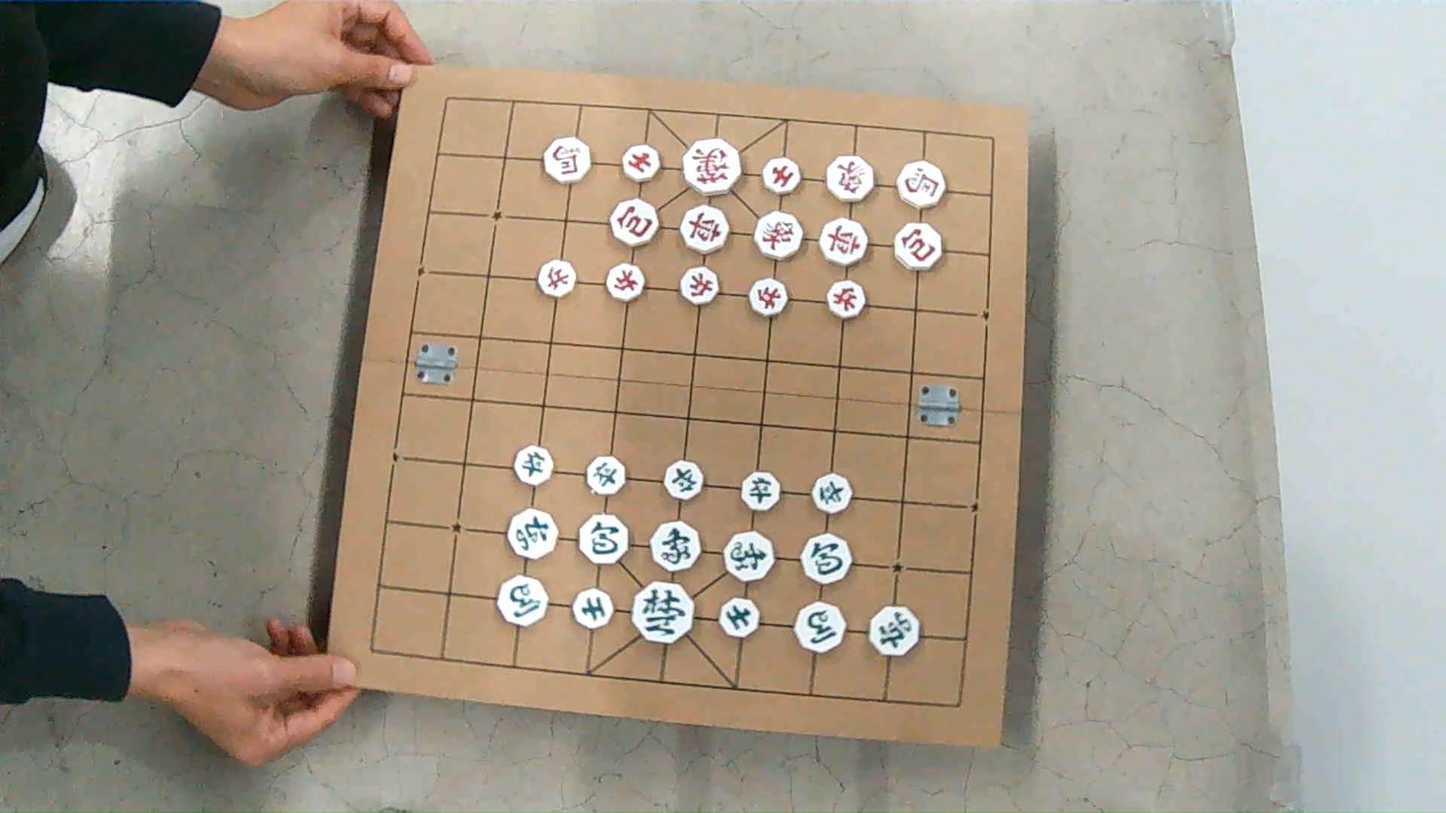cha_green: (868, 606, 919, 656), (507, 509, 556, 559)
cha_red: (680, 206, 728, 254), (819, 218, 867, 266)
jol_green: (514, 446, 553, 486), (664, 461, 703, 500), (587, 456, 625, 495), (813, 474, 851, 513), (742, 471, 779, 510)
jol_red: (606, 263, 644, 301), (827, 280, 865, 318), (749, 279, 787, 317), (681, 266, 718, 305), (537, 260, 575, 297)
ma_green: (795, 602, 845, 653), (497, 576, 547, 626)
ma_red: (897, 161, 945, 209), (543, 138, 590, 183)
po_green: (578, 514, 628, 564), (802, 534, 851, 584)
po_red: (609, 199, 657, 247), (895, 223, 941, 270)
sa_green: (718, 597, 758, 637), (573, 589, 612, 629)
sa_red: (762, 157, 801, 194), (622, 145, 660, 182)
sang_green: (723, 531, 773, 581), (651, 521, 700, 571)
sang_red: (754, 212, 802, 260), (826, 156, 874, 202)
wang_green: (632, 580, 694, 644)
wang_red: (682, 139, 740, 196)
